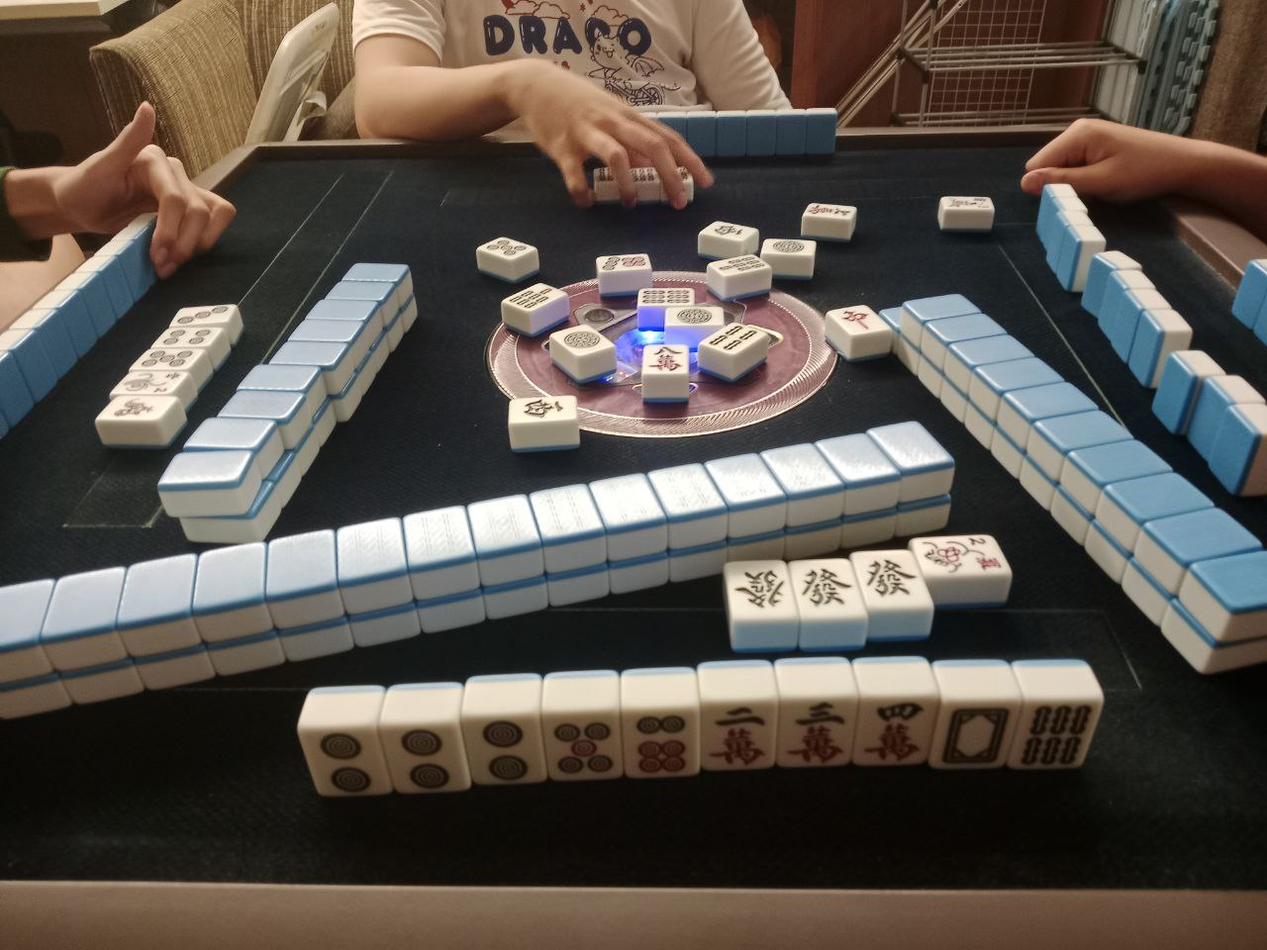TILE: (297, 721, 392, 797), (779, 697, 865, 774), (459, 716, 549, 786), (854, 695, 938, 769), (697, 701, 779, 775), (936, 698, 1018, 770), (540, 712, 627, 779), (378, 725, 470, 788), (1014, 699, 1103, 764), (622, 709, 702, 777), (792, 556, 865, 619), (853, 552, 931, 609), (724, 560, 796, 619), (908, 536, 1010, 576)
